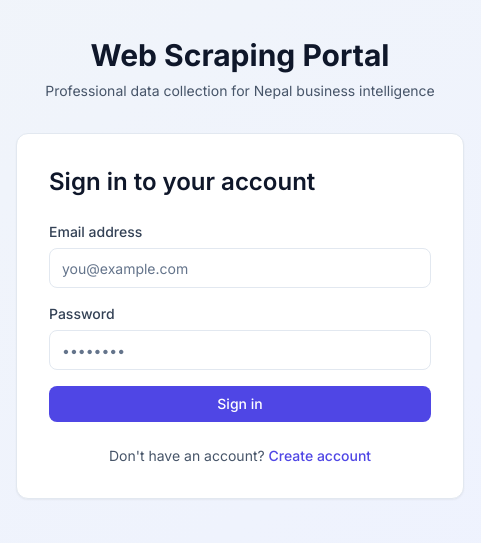
Test: Login Flow Integration › handles network errors gracefully
Note: Fill out and submit form
In the field labelled "Email address": (240, 268) [49,248,431,288], type "test@example.com"
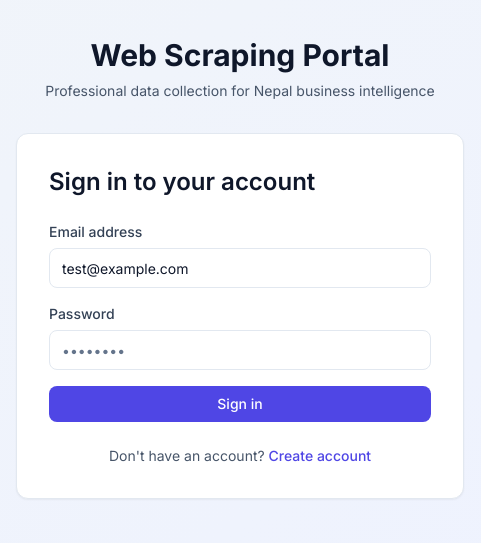
In the password field labelled "Password": (240, 350) [49,330,431,370], type "password123"
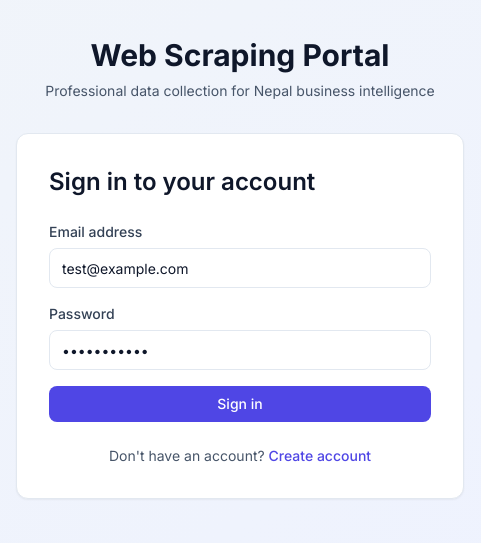
Click the button "Sign in": (240, 404) [49,386,431,422]
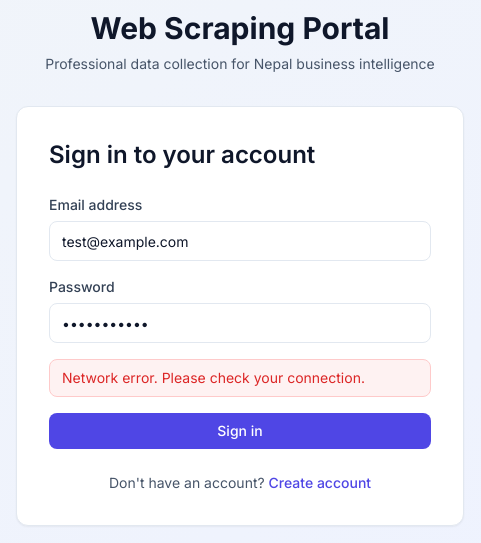
expect the button "Sign in" is enabled: met, box [49,413,431,449]
expect the text "Network error. Please check your connection." is shown: met, box [49,359,431,397]
